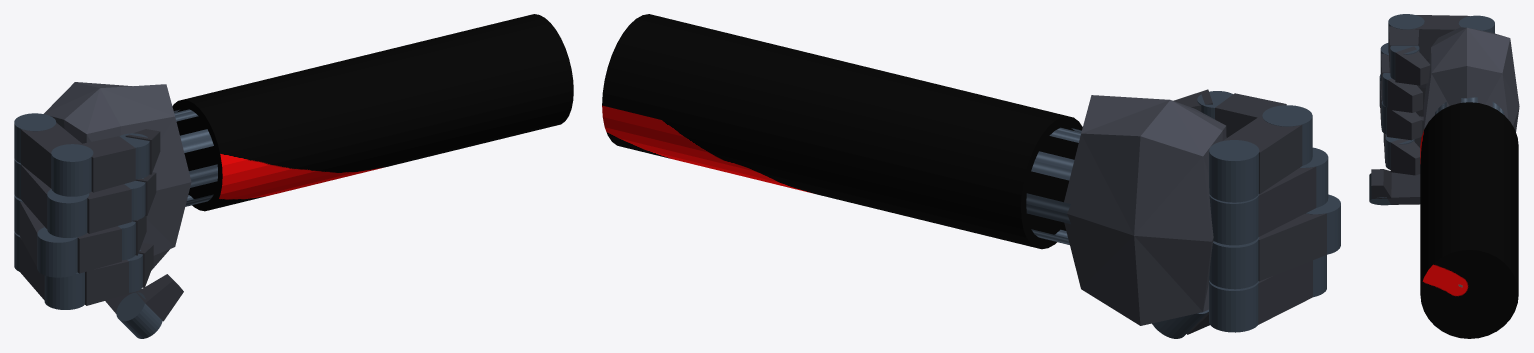
File: bossAtackArmRight.obj
The picture shows the model from 3 angles, left to right: view 1: azimuth 30°, elevation 25°; view 2: azimuth 150°, elevation 25°; view 3: azimuth 270°, elevation 25°; orthographic projection. The views are drawn at different scales.
Parts seen in each view (by area): view 1: 円柱.002; view 2: 円柱.002; view 3: 円柱.002.
Boxes of the visible parts, x1,y1,x2,y2 form: 円柱.002: (14,14,573,338); 円柱.002: (602,14,1340,338); 円柱.002: (1369,14,1519,338).
Size of the model in its own units: 10.61 by 3.93 by 2.93.
Materials: 5 (5 with a texture image).
